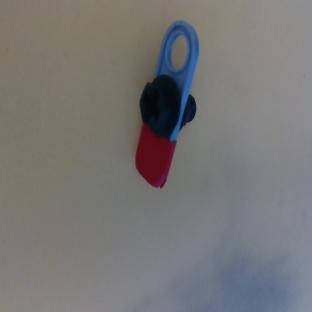part_1_good: (113, 16, 224, 190)
